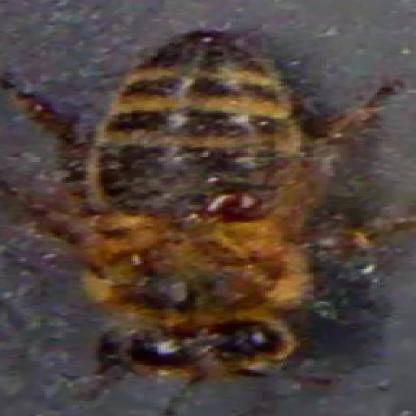bee: (70, 23, 344, 376)
vaoora: (205, 192, 257, 214)
